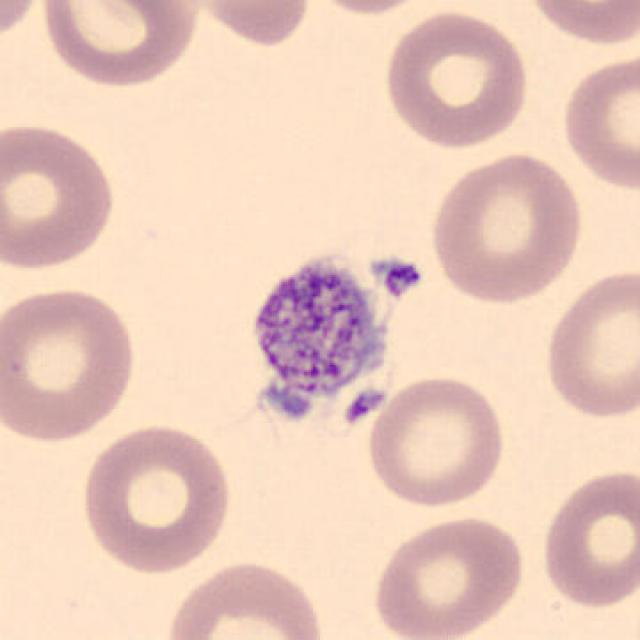platelets: (246, 244, 386, 392), (372, 254, 426, 302)
rbc: (75, 426, 242, 575), (373, 5, 534, 159), (0, 269, 142, 442), (425, 154, 586, 300), (0, 102, 129, 278), (368, 369, 523, 513), (368, 518, 529, 640), (39, 0, 205, 99), (542, 467, 640, 628), (171, 558, 360, 640), (551, 270, 640, 425), (555, 60, 640, 202), (184, 0, 315, 65), (529, 0, 640, 52), (327, 0, 413, 25), (0, 0, 32, 45)
